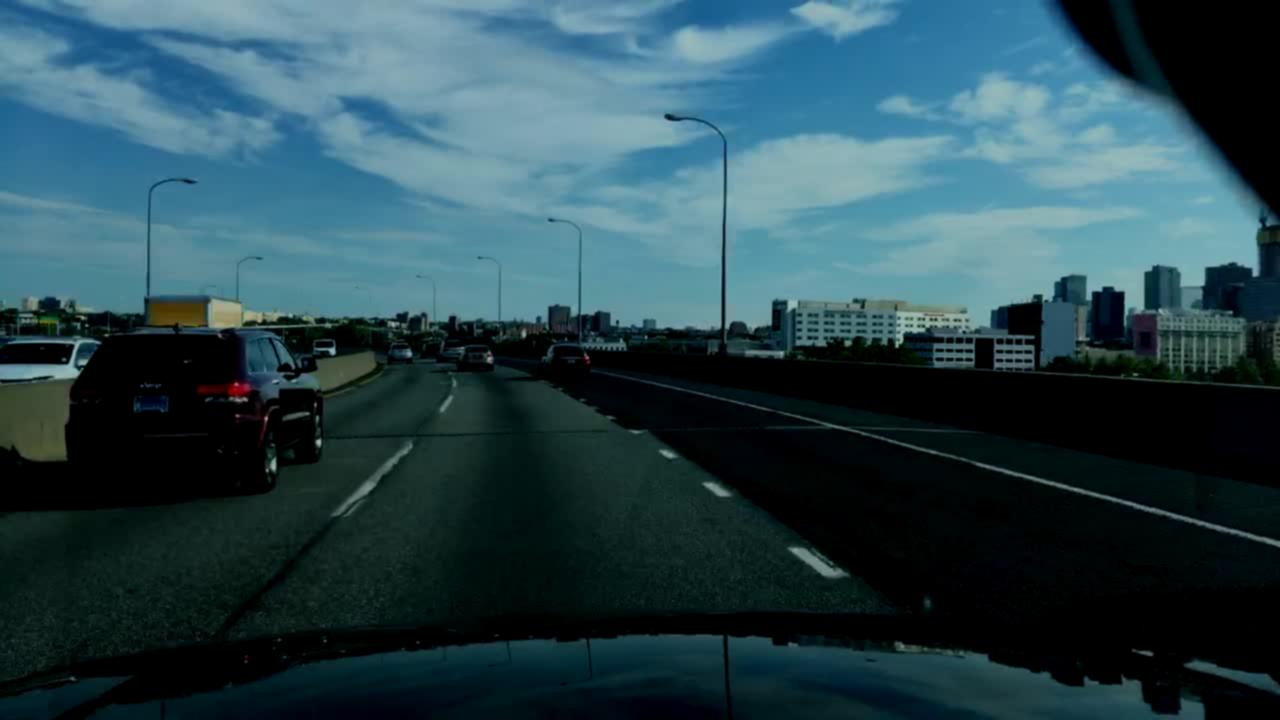jeep: (131, 374, 175, 398)
